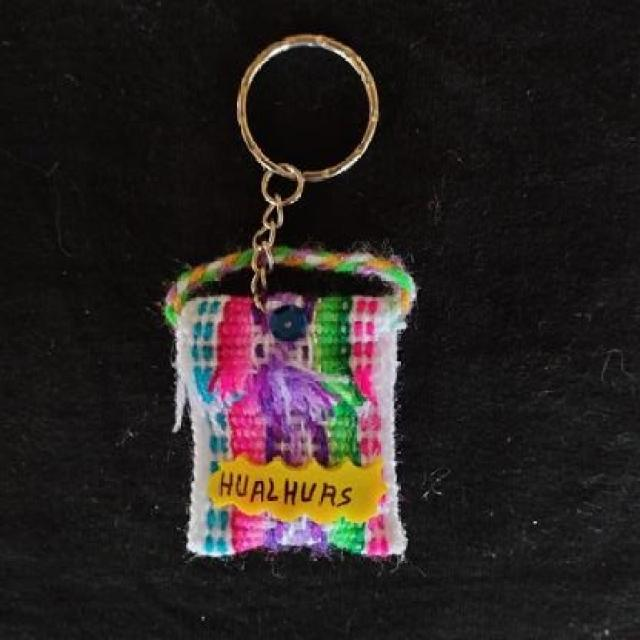Llavero: (161, 244, 417, 562)
